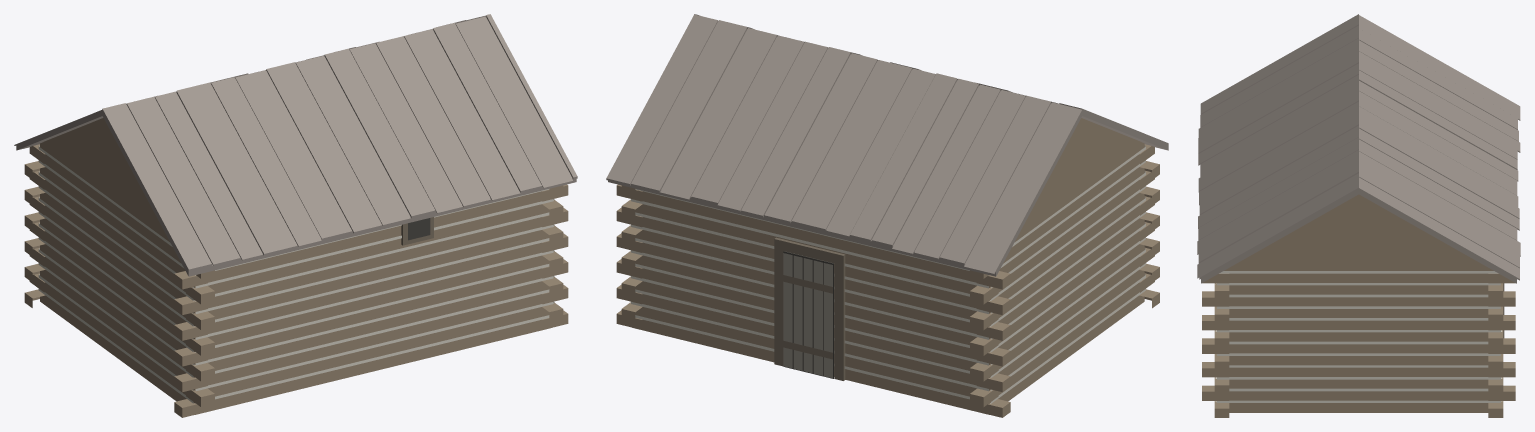
The model's file is log_jail__log_1833.glb.
The picture shows the model from 3 angles, left to right: view 1: azimuth 30°, elevation 25°; view 2: azimuth 150°, elevation 25°; view 3: azimuth 270°, elevation 25°; orthographic projection. The views are drawn at different scales.
Visible parts, largest first — view 1: log_jail__log_1833; view 2: log_jail__log_1833; view 3: log_jail__log_1833.
Part boxes in pixels (x1=…): log_jail__log_1833: x1=14, y1=14, x2=577, y2=417; log_jail__log_1833: x1=606, y1=14, x2=1168, y2=417; log_jail__log_1833: x1=1197, y1=14, x2=1520, y2=417.
Bounding box in the file's own units: 6.61 × 4.12 × 5.2.
